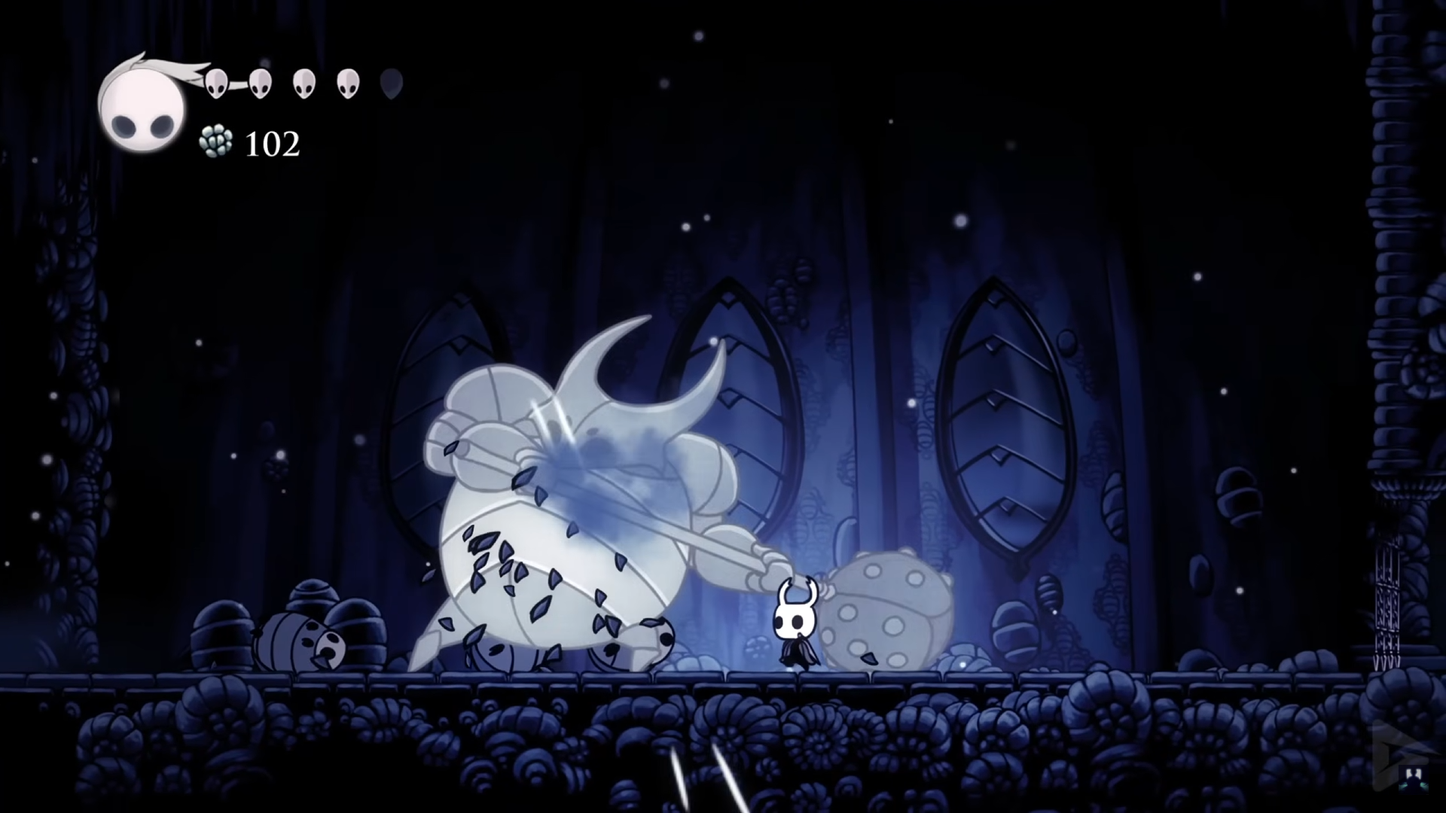HK: (767, 572, 822, 674)
